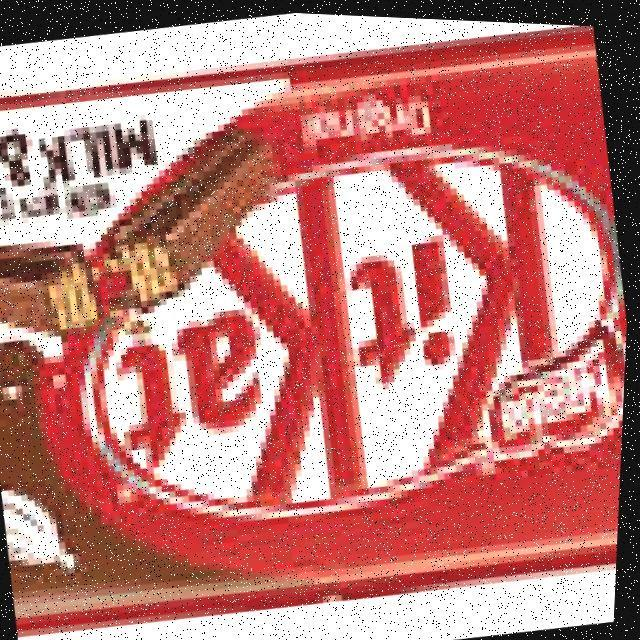kitkat_chocolate: (3, 73, 640, 640)
